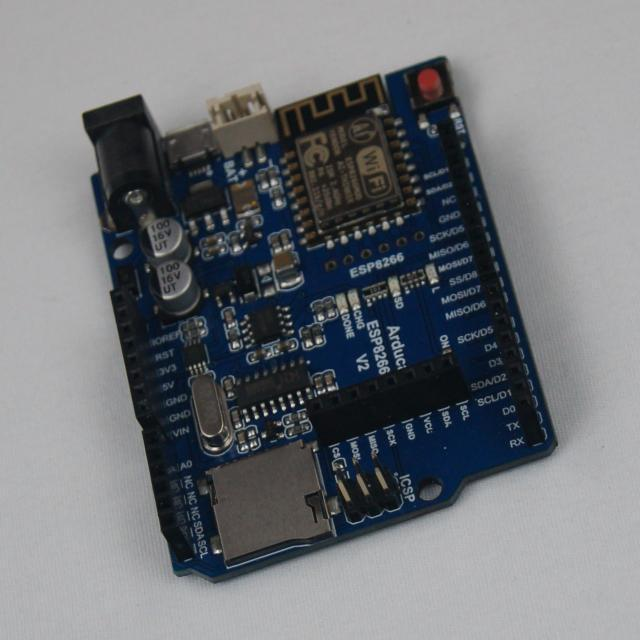Arduino Uno Camera Shield: (84, 59, 557, 582)
